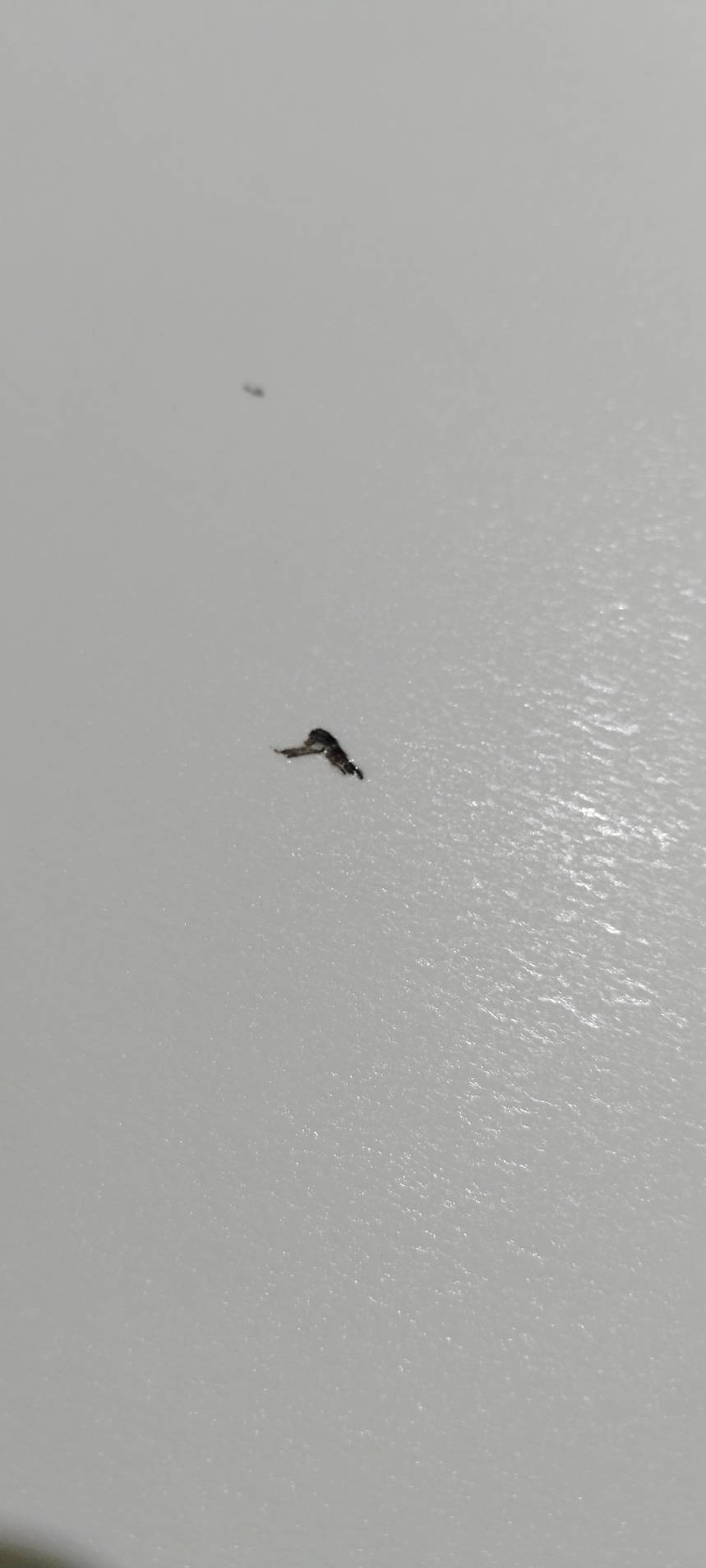contaminate: (262, 719, 381, 793)
